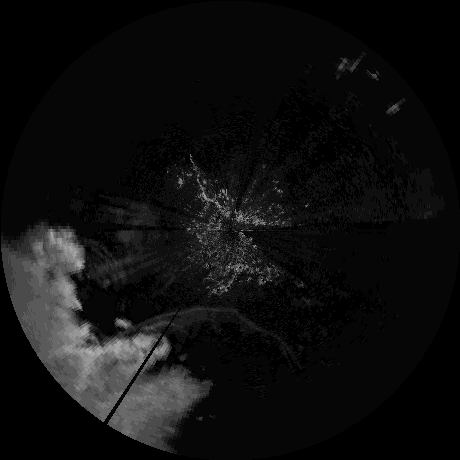frontgust: (123, 306, 286, 352)
